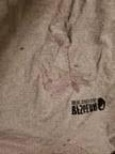wine: (46, 72, 87, 97), (49, 32, 68, 53), (19, 45, 30, 53), (63, 138, 71, 145)
